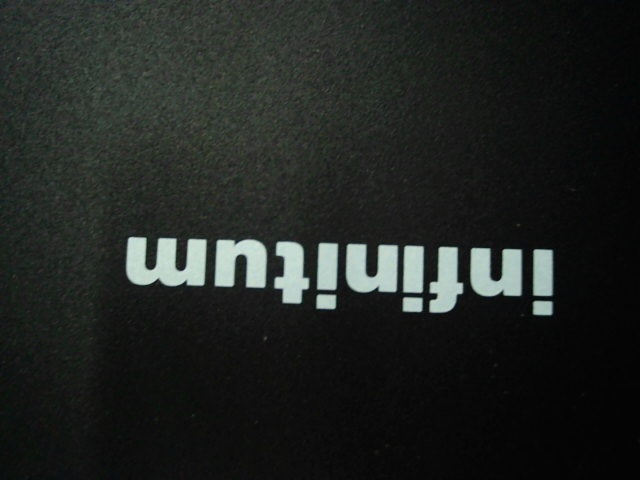BK_infinitum: (113, 218, 575, 327)
